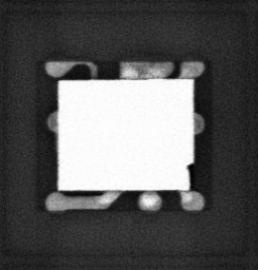DIE_BROKEN: (186, 161, 196, 191)
